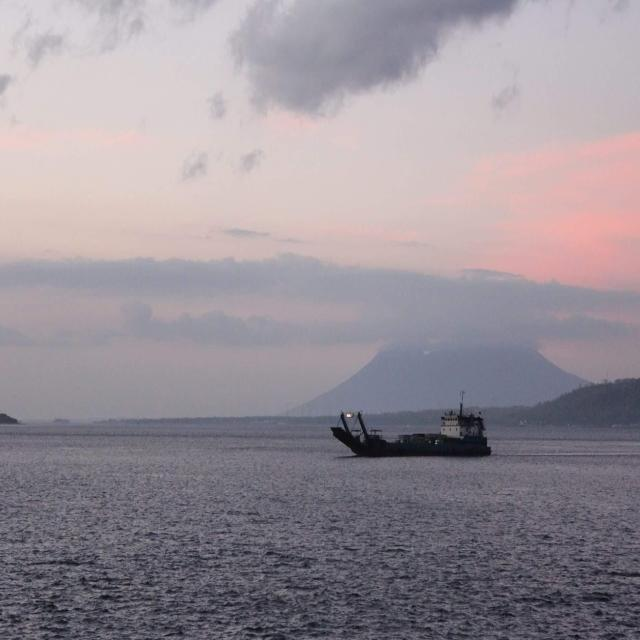cargoship: (329, 389, 491, 463)
